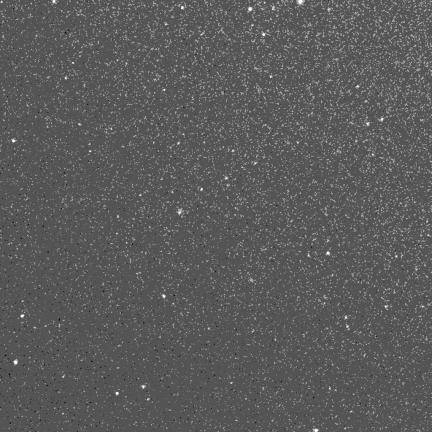blob: (178, 208, 183, 215), (298, 0, 303, 4), (12, 139, 16, 143), (200, 188, 204, 192), (14, 360, 18, 364), (181, 6, 185, 10), (147, 398, 151, 401), (327, 251, 330, 255), (366, 122, 369, 126), (21, 314, 24, 318), (225, 176, 228, 180), (65, 76, 68, 80), (162, 295, 166, 298), (249, 7, 252, 11), (142, 385, 145, 388), (262, 33, 265, 36), (116, 392, 119, 395)
